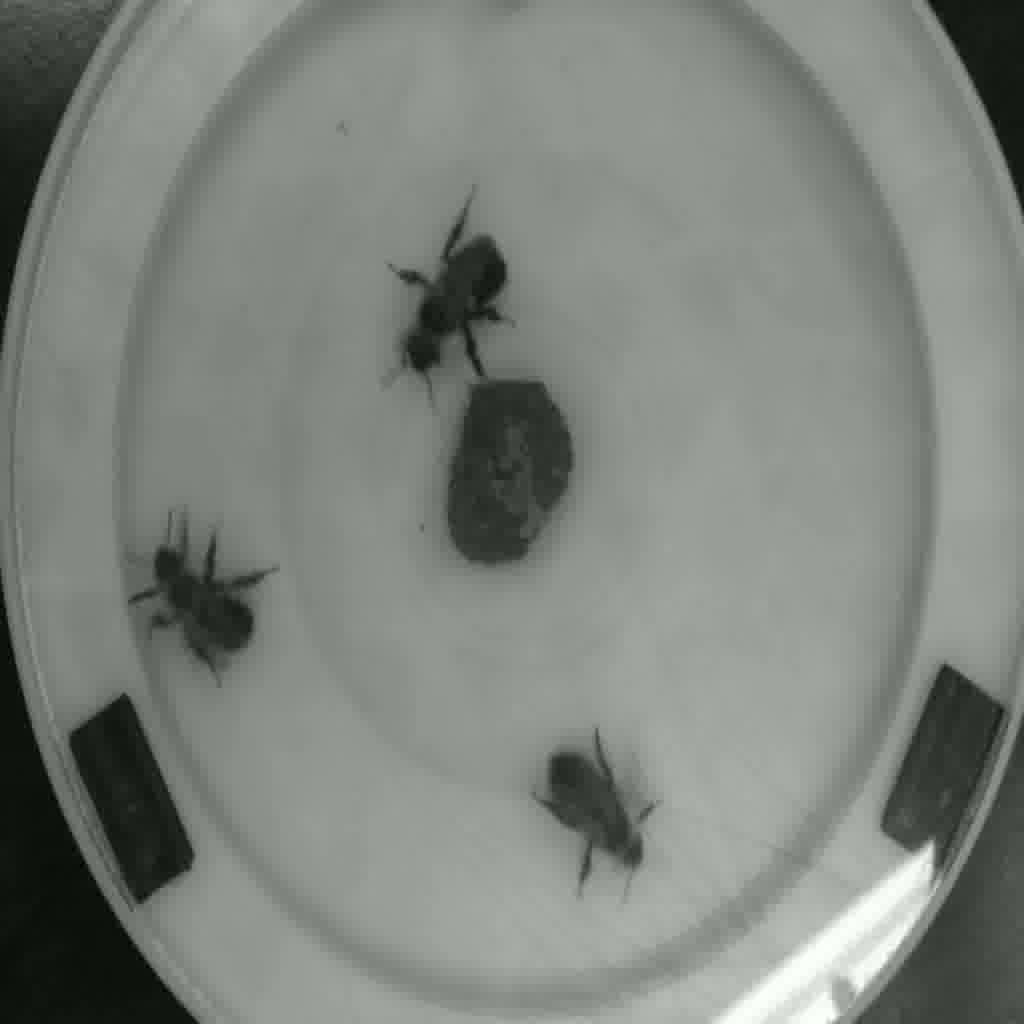bee: (120, 514, 268, 686), (387, 219, 514, 394), (531, 736, 658, 895)
